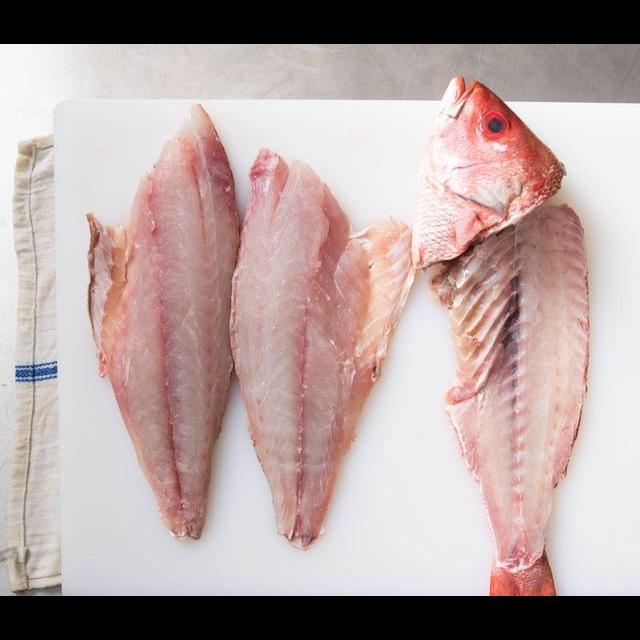fish: (225, 139, 425, 565)
